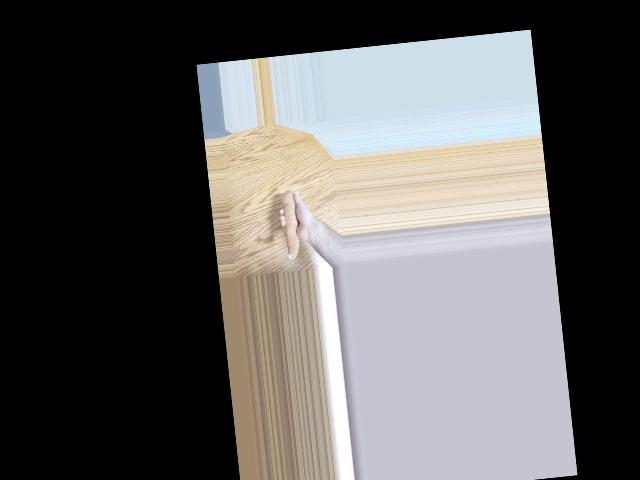sweet_potato: (280, 188, 308, 260)
